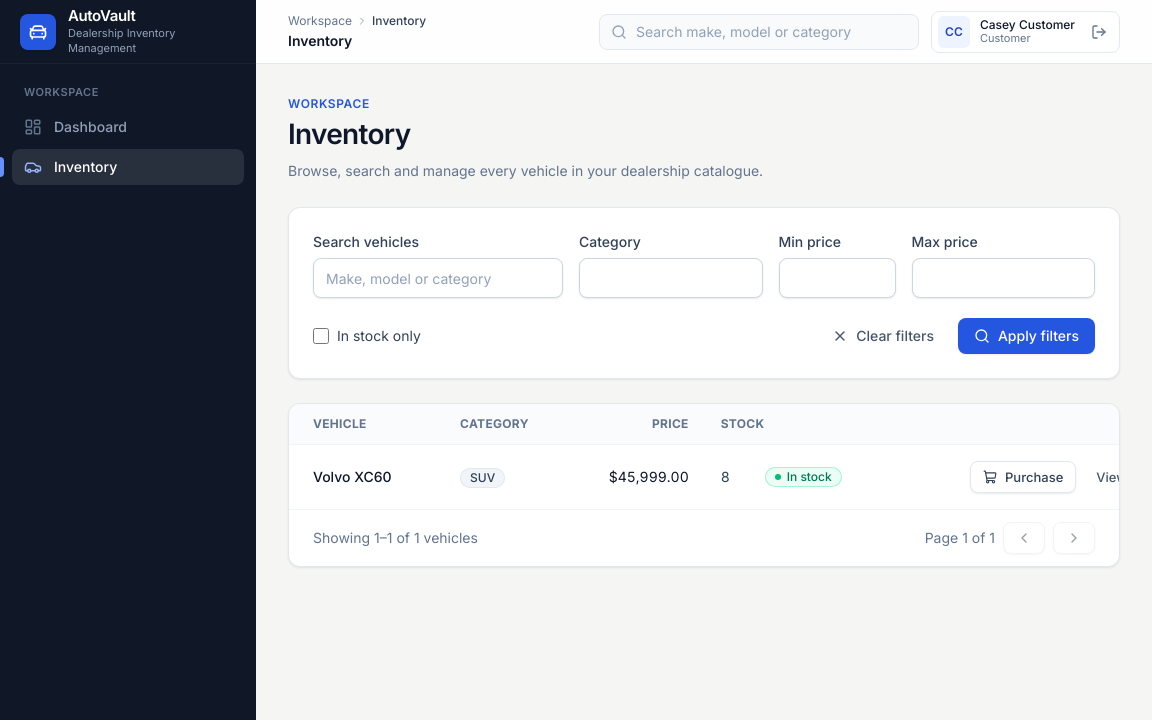
Test: inventory › shows a no-matches state when filters return nothing
Expected: the link "Volvo XC60" is shown, [313,468,392,485]
Type "zzz" into the search field labelled "Search vehicles" at x=438, y=278, box [313,258,563,298]
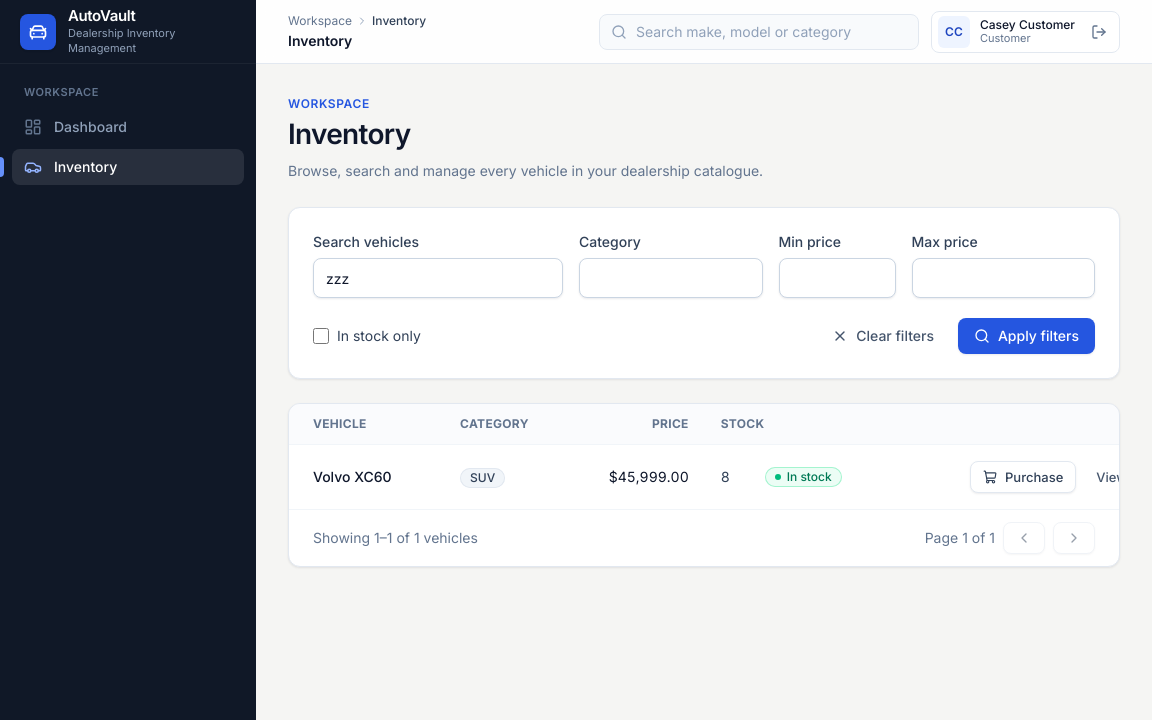
Click the button "Apply filters" at x=1026, y=336, box [958,318,1095,354]
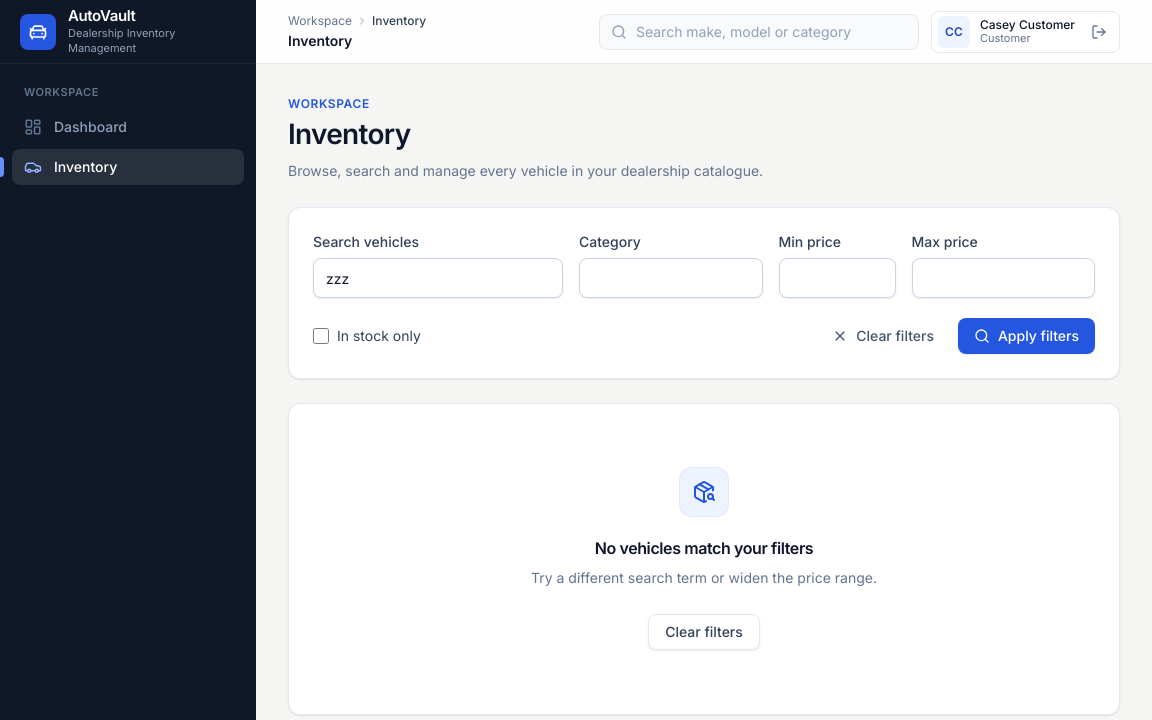
Expected: the heading "No vehicles match your filters" is shown, [595,536,813,560]
